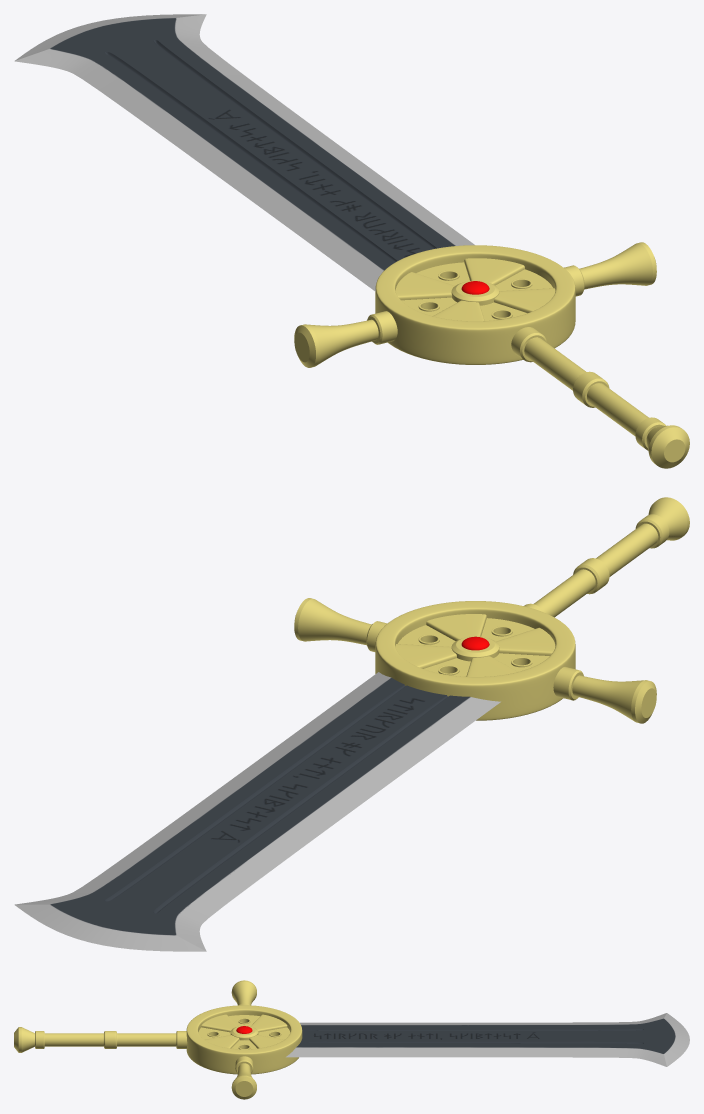
The model's file is Rune Blade.fbx.
The picture shows the model from 3 angles, top to bottom: view 1: azimuth 30°, elevation 25°; view 2: azimuth 150°, elevation 25°; view 3: azimuth 270°, elevation 25°; orthographic projection. The views are drawn at different scales.
Parts seen in each view (by area): view 1: Blade, Guard, Handle, Guard_Cross, Guard_Dividers; view 2: Blade, Guard, Guard_Cross, Handle, Guard_Dividers; view 3: Blade, Guard, Handle, Guard_Dividers, Guard_Cross.
Part boxes in pixels (bbox=[...]): Blade: bbox=[14, 14, 474, 291]; Guard: bbox=[375, 245, 575, 364]; Handle: bbox=[511, 327, 689, 468]; Guard_Cross: bbox=[294, 242, 656, 367]; Guard_Dividers: bbox=[395, 258, 555, 321]; Blade: bbox=[14, 672, 500, 951]; Guard: bbox=[375, 601, 575, 720]; Guard_Cross: bbox=[294, 598, 656, 723]; Handle: bbox=[524, 497, 689, 617]; Guard_Dividers: bbox=[395, 614, 555, 676]; Blade: bbox=[286, 1013, 689, 1066]; Guard: bbox=[186, 1005, 302, 1074]; Handle: bbox=[14, 1027, 187, 1052]; Guard_Dividers: bbox=[201, 1014, 287, 1048]; Guard_Cross: bbox=[231, 980, 256, 1099].
Bounding box in the file's own units: 72.99 × 213 × 8.61.
